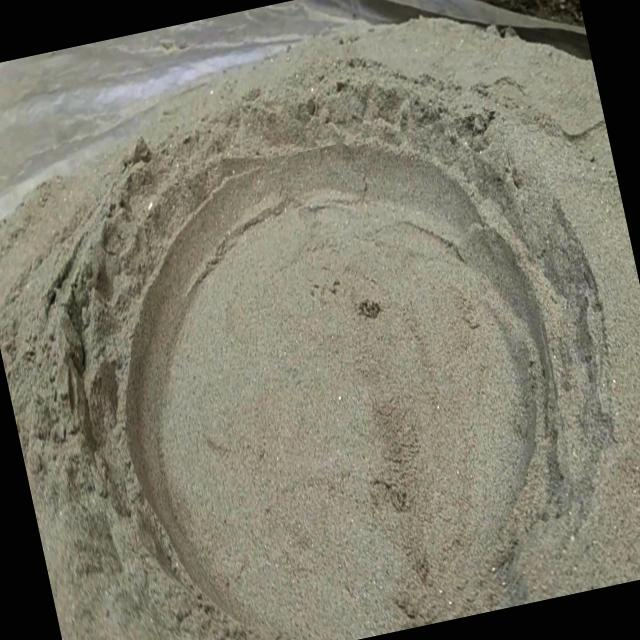C40: (93, 135, 555, 640)
